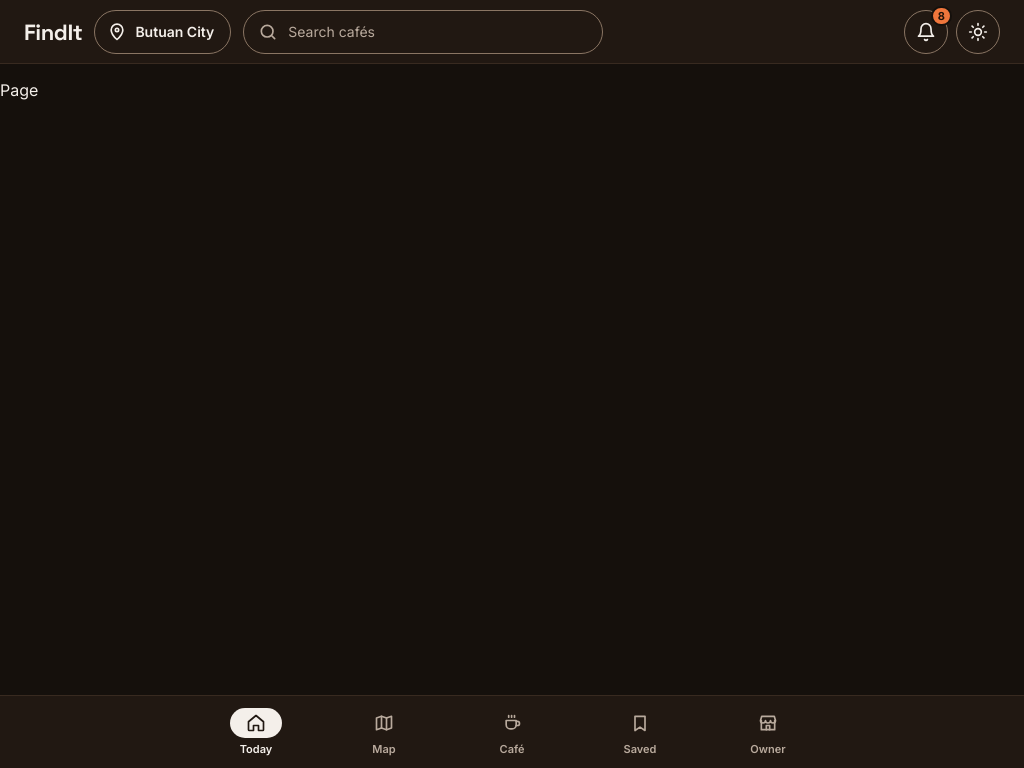
Test case: Theme › toggles dark theme and saves the bare word
Click the button named "Dark theme": (978, 32) [956, 10, 1000, 54]
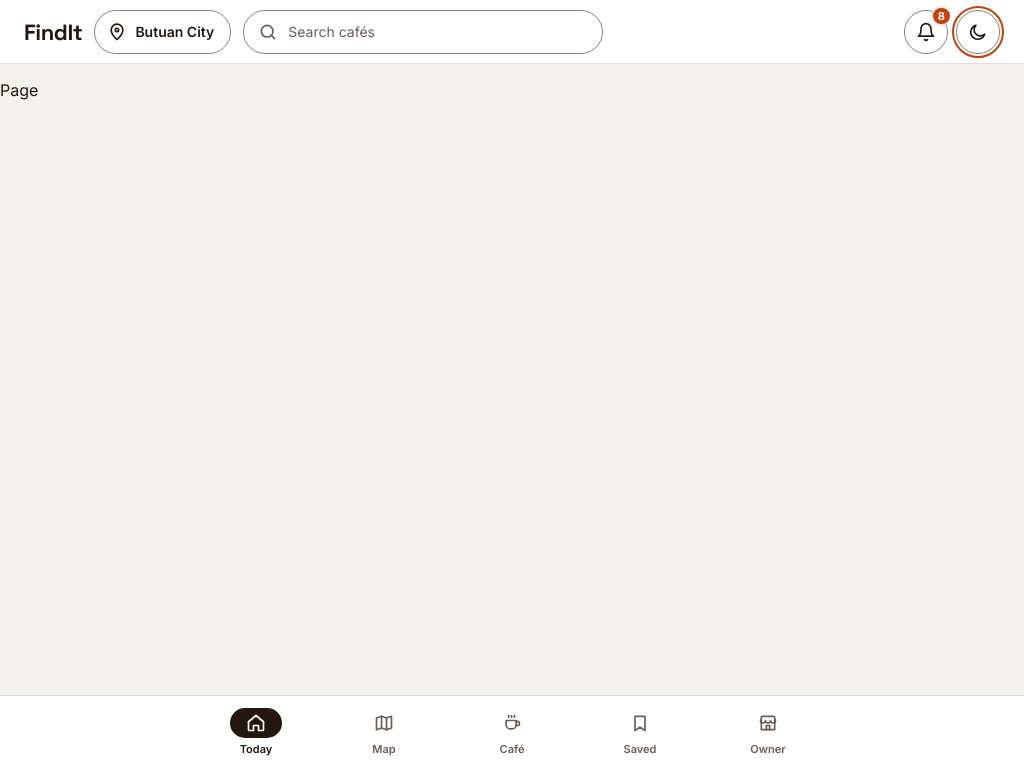
Now the button named "Dark theme" is not pressed, box [956, 10, 1000, 54]
